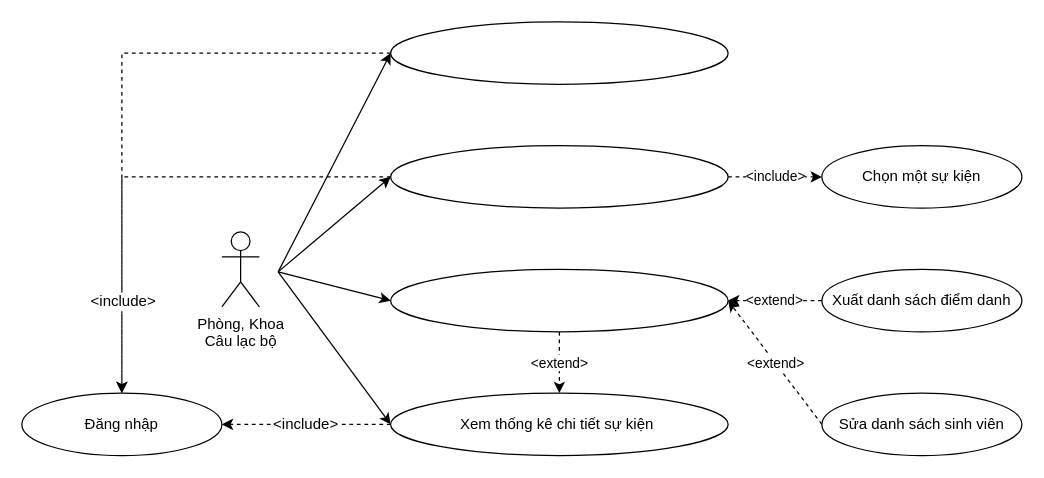
Some shapes in this 1044 by 478 pixel diagram are drawn without their labels. The centre of each missing label's shape, as x and y in pixels:
"Thay đổi thông tin sự kiện đã tạo" goes at (x=558, y=176).
"Tạo sự kiện mới" goes at (x=558, y=52).
"Xem danh sách sinh viên tham gia sự kiện" goes at (x=558, y=300).
